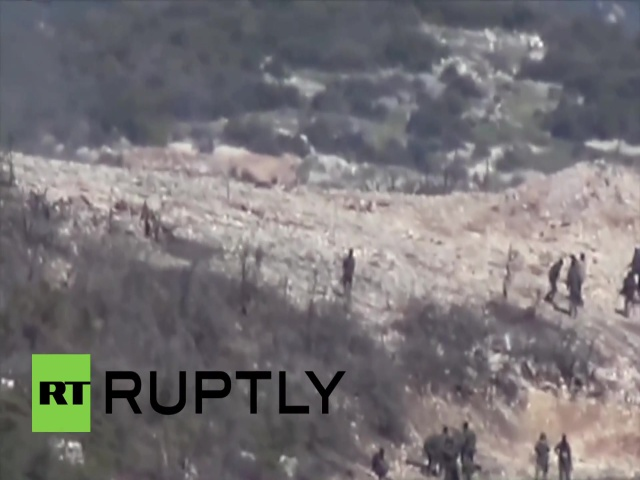person: (434, 418, 458, 480), (565, 252, 587, 313), (541, 256, 565, 306), (553, 432, 576, 480), (338, 248, 358, 302), (532, 430, 553, 480), (459, 417, 475, 480)
